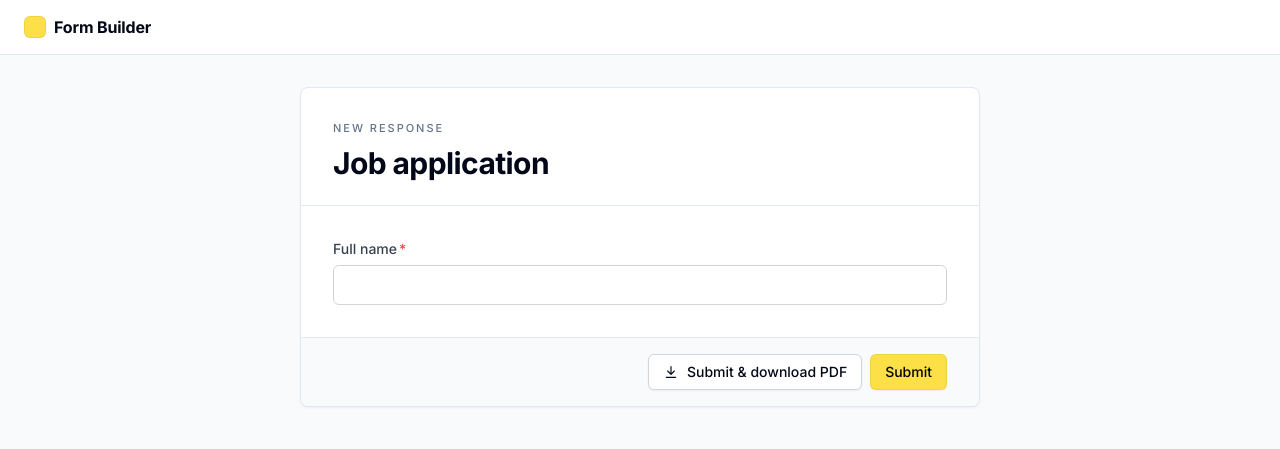
Test: fill mode › submitting with an empty required field shows errors and saves nothing
Click the button "Submit".
click(909, 372)  # box [870,354,947,390]
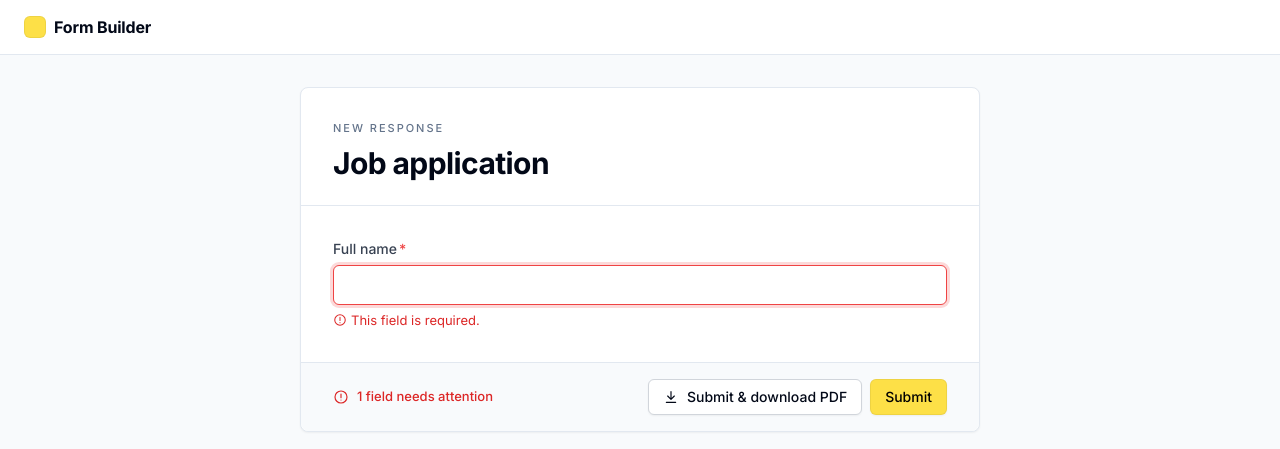
Check: the text "This field is required." is shown, box [333,312,480,328]
Check: the message reads "1 field needs attention", box [333,387,493,407]
